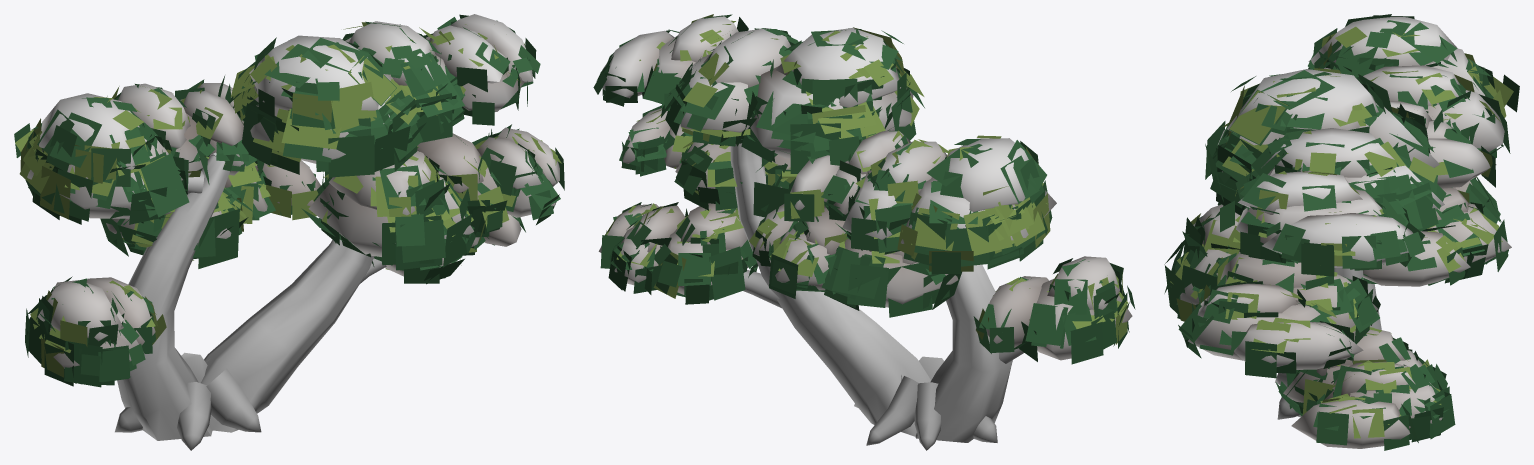
Rendered from sf_cypress_b.glb.
The picture shows the model from 3 angles, left to right: view 1: azimuth 30°, elevation 25°; view 2: azimuth 150°, elevation 25°; view 3: azimuth 270°, elevation 25°; orthographic projection. The views are drawn at different scales.
Visible parts, largest first — view 1: Cypress_Leaves, Cypress_Crown, Cypress_Trunk; view 2: Cypress_Leaves, Cypress_Crown, Cypress_Trunk; view 3: Cypress_Leaves, Cypress_Crown, Cypress_Trunk.
Boxes of the visible parts, <box> form: Cypress_Leaves: <box>14,14,564,387</box>; Cypress_Crown: <box>27,14,559,368</box>; Cypress_Trunk: <box>115,152,386,450</box>; Cypress_Leaves: <box>593,14,1135,364</box>; Cypress_Crown: <box>598,15,1132,360</box>; Cypress_Trunk: <box>730,143,1023,450</box>; Cypress_Leaves: <box>1164,14,1519,450</box>; Cypress_Crown: <box>1180,16,1511,448</box>; Cypress_Trunk: <box>1275,268,1381,419</box>.
Size of the model in its own units: 12.73 by 8.6 by 7.29.
